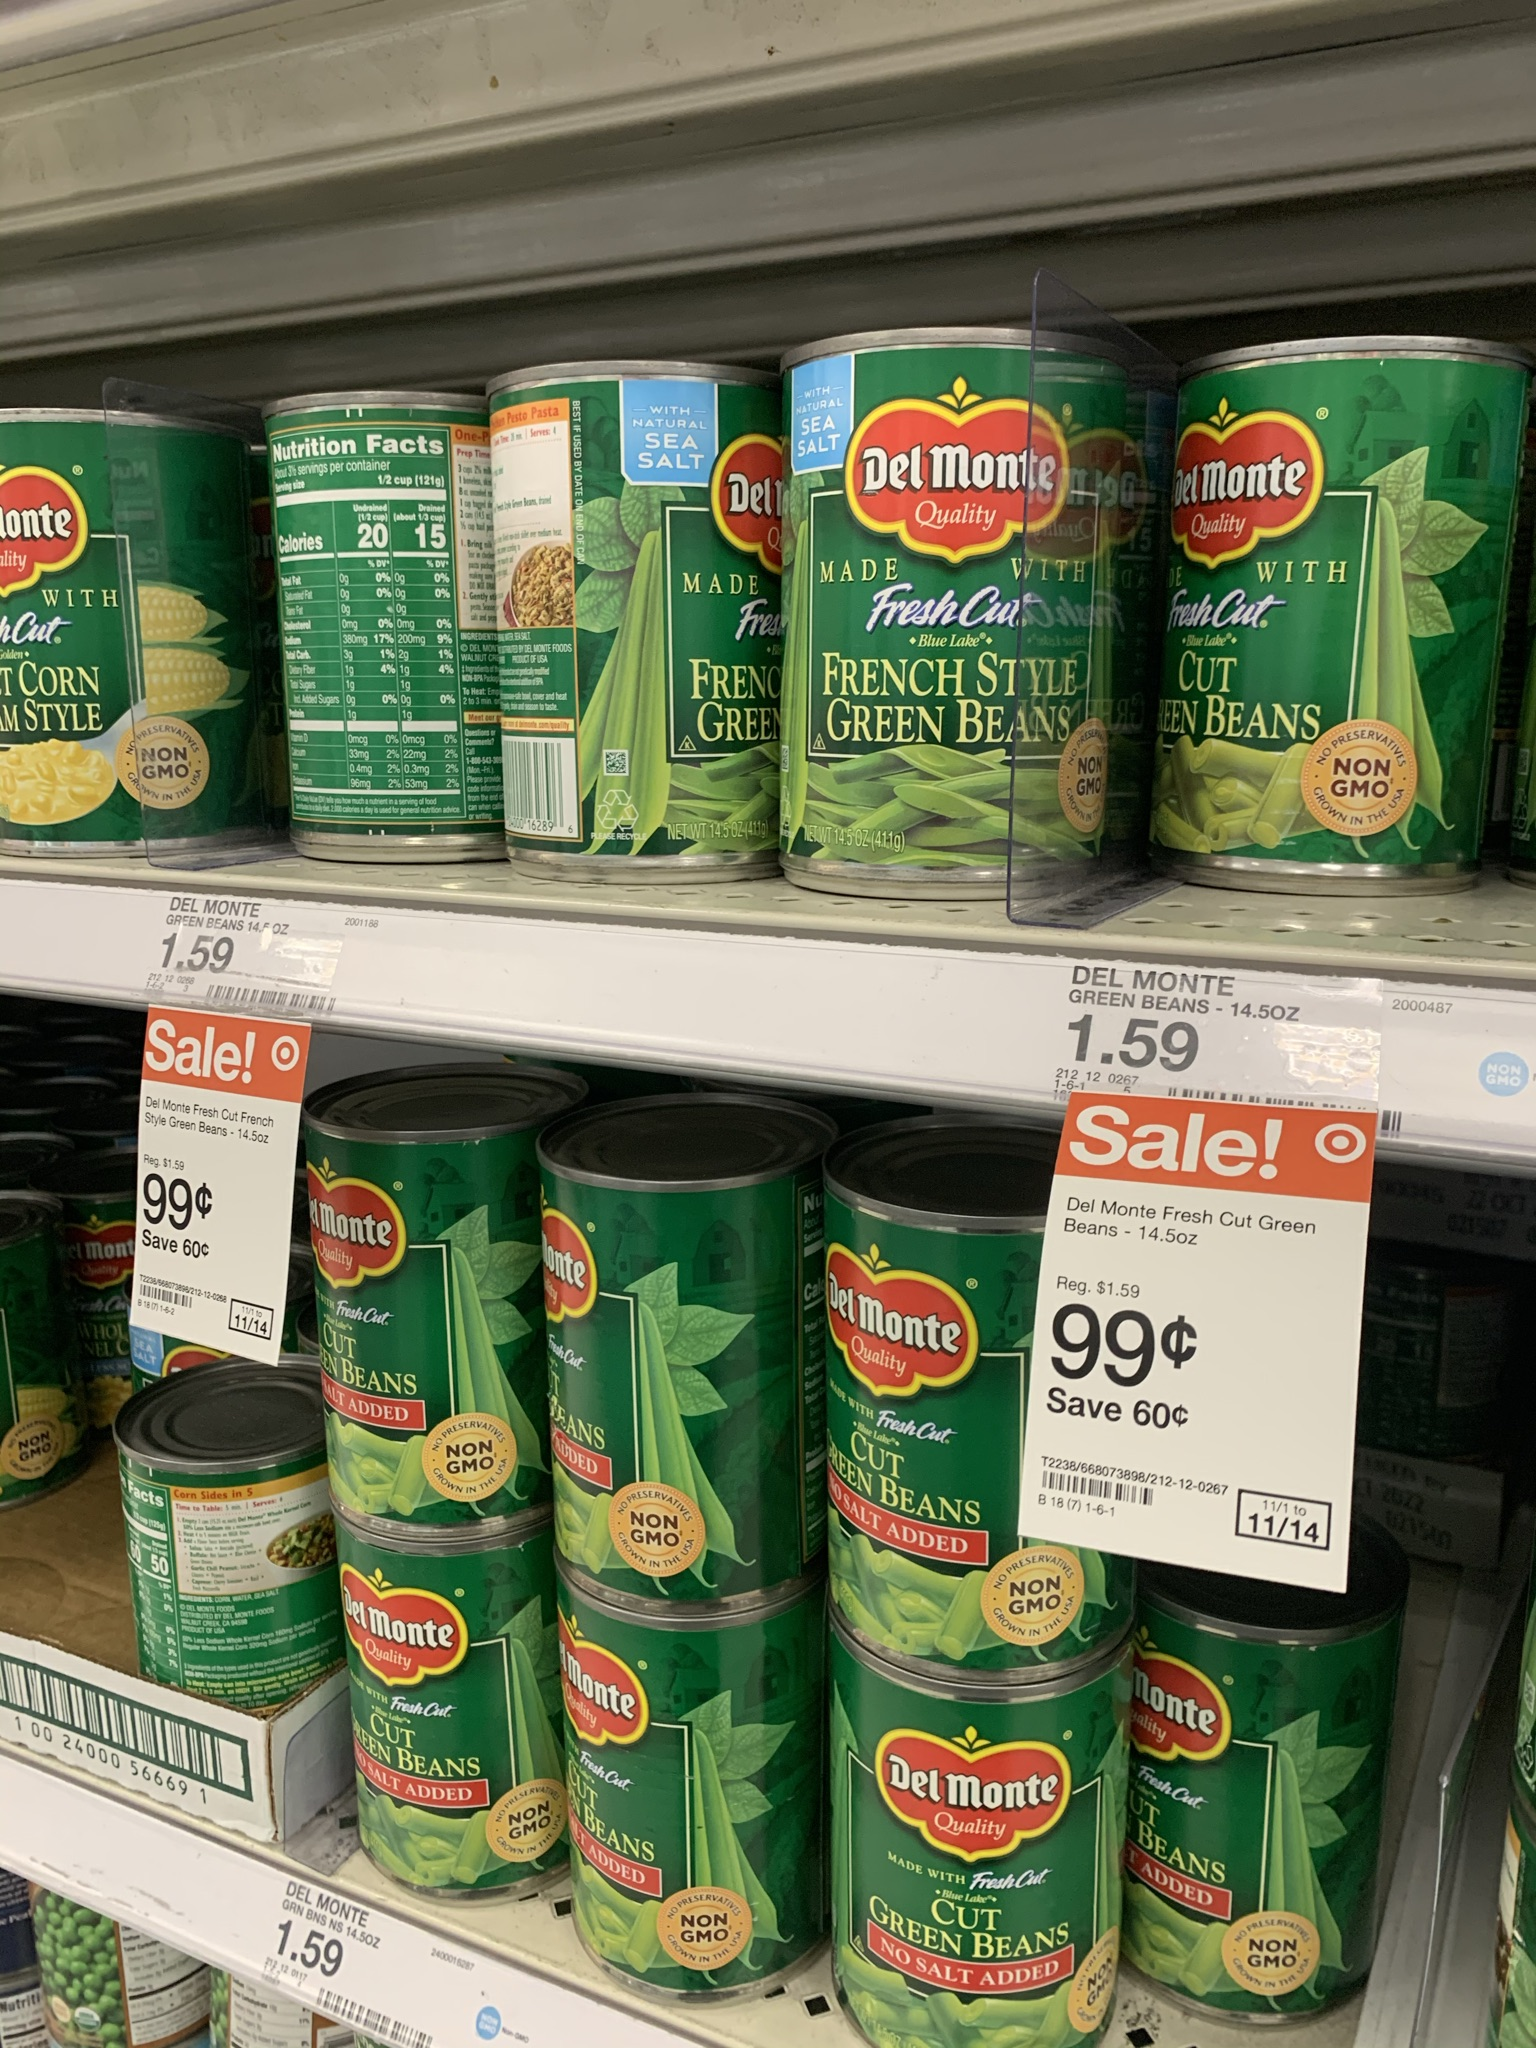can: (1170, 358, 1488, 874), (502, 377, 773, 853), (800, 350, 1018, 876), (552, 1142, 803, 1580), (845, 1659, 1108, 2033), (282, 398, 486, 847), (328, 1100, 541, 1511), (829, 1176, 1018, 1632), (579, 1614, 815, 1959), (1149, 1608, 1355, 1988), (360, 1540, 549, 1864)
